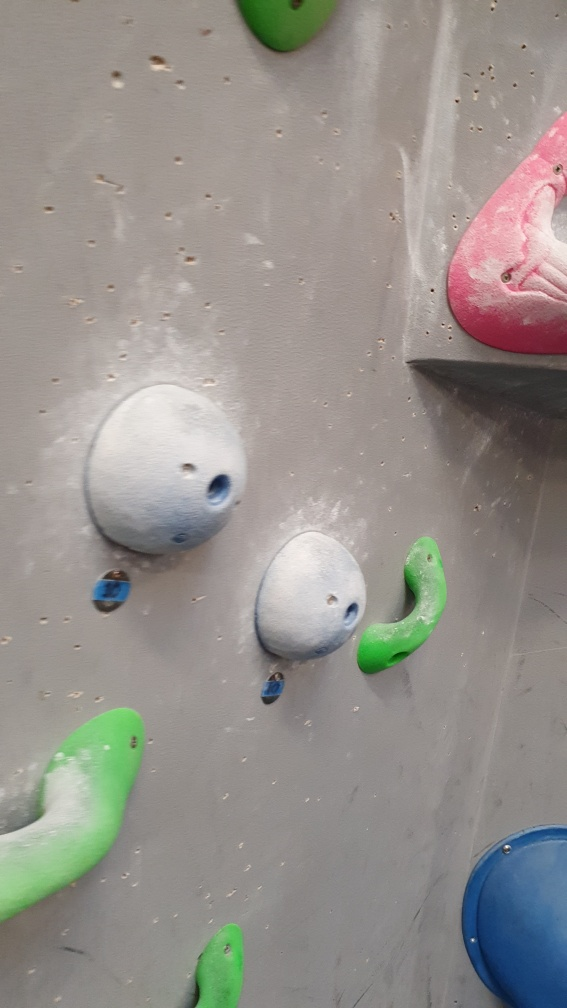Hand Start: (89, 565, 131, 619), (261, 670, 291, 711)
Pocket: (441, 109, 567, 360)
Sloper: (86, 382, 248, 565), (253, 531, 370, 666)
